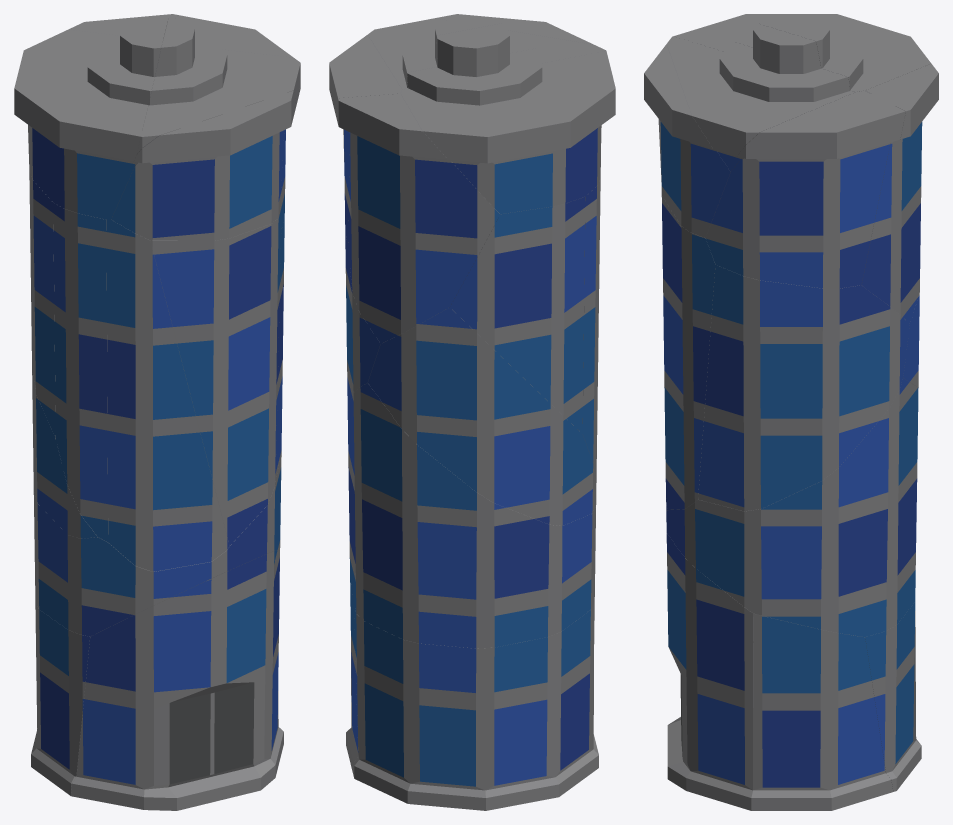
Rendered from HighHouse 2.2 Fractured.fbx.
3 renders of one model, left to right at view 1: azimuth 30°, elevation 25°; view 2: azimuth 150°, elevation 25°; view 3: azimuth 270°, elevation 25°, orthographic.
Parts seen in each view (by area): view 1: HighHouse_2_02_Breaking_cell.001, HighHouse_2_02_Breaking_cell.005, HighHouse_2_02_Breaking_cell.004, HighHouse_2_02_Breaking_cell.011, HighHouse_2_02_Breaking_cell.008, HighHouse_2_02_Breaking_cell.012, HighHouse_2_02_Breaking_cell.003, HighHouse_2_02_Breaking_cell.002, HighHouse_2_02_Breaking_cell.007, HighHouse_2_02_Breaking_cell.009, HighHouse_2_02_Breaking_cell.013, HighHouse_2_02_Breaking_cell.014 (+2 smaller); view 2: HighHouse_2_02_Breaking_cell.003, HighHouse_2_02_Breaking_cell.007, HighHouse_2_02_Breaking_cell.011, HighHouse_2_02_Breaking_cell.013, HighHouse_2_02_Breaking_cell.006, HighHouse_2_02_Breaking_cell.009, HighHouse_2_02_Breaking_cell.002, HighHouse_2_02_Breaking_cell.012, HighHouse_2_02_Breaking_cell.014, HighHouse_2_02_Breaking_cell.010, HighHouse_2_02_Breaking_cell.008, HighHouse_2_02_Breaking_cell; view 3: HighHouse_2_02_Breaking_cell.010, HighHouse_2_02_Breaking_cell.003, HighHouse_2_02_Breaking_cell.014, HighHouse_2_02_Breaking_cell, HighHouse_2_02_Breaking_cell.001, HighHouse_2_02_Breaking_cell.002, HighHouse_2_02_Breaking_cell.004, HighHouse_2_02_Breaking_cell.006, HighHouse_2_02_Breaking_cell.011, HighHouse_2_02_Breaking_cell.008, HighHouse_2_02_Breaking_cell.007, HighHouse_2_02_Breaking_cell.013.
Boxes of the visible parts, left/top/right/bottom form: HighHouse_2_02_Breaking_cell.001: left=71, top=550, right=283, bottom=810; HighHouse_2_02_Breaking_cell.005: left=106, top=219, right=229, bottom=571; HighHouse_2_02_Breaking_cell.004: left=150, top=212, right=281, bottom=545; HighHouse_2_02_Breaking_cell.011: left=14, top=16, right=168, bottom=219; HighHouse_2_02_Breaking_cell.008: left=111, top=90, right=296, bottom=240; HighHouse_2_02_Breaking_cell.012: left=53, top=203, right=108, bottom=542; HighHouse_2_02_Breaking_cell.003: left=33, top=454, right=281, bottom=636; HighHouse_2_02_Breaking_cell.002: left=134, top=17, right=300, bottom=166; HighHouse_2_02_Breaking_cell.007: left=31, top=602, right=90, bottom=795; HighHouse_2_02_Breaking_cell.009: left=29, top=171, right=55, bottom=439; HighHouse_2_02_Breaking_cell.013: left=32, top=369, right=97, bottom=538; HighHouse_2_02_Breaking_cell.014: left=175, top=15, right=300, bottom=228; HighHouse_2_02_Breaking_cell.003: left=347, top=383, right=595, bottom=648; HighHouse_2_02_Breaking_cell.007: left=353, top=602, right=598, bottom=810; HighHouse_2_02_Breaking_cell.011: left=400, top=23, right=615, bottom=214; HighHouse_2_02_Breaking_cell.013: left=368, top=307, right=596, bottom=525; HighHouse_2_02_Breaking_cell.006: left=337, top=93, right=500, bottom=343; HighHouse_2_02_Breaking_cell.009: left=450, top=197, right=585, bottom=433; HighHouse_2_02_Breaking_cell.002: left=368, top=16, right=606, bottom=89; HighHouse_2_02_Breaking_cell.012: left=577, top=179, right=600, bottom=480; HighHouse_2_02_Breaking_cell.014: left=329, top=35, right=402, bottom=244; HighHouse_2_02_Breaking_cell.010: left=345, top=233, right=380, bottom=410; HighHouse_2_02_Breaking_cell.008: left=435, top=14, right=593, bottom=44; HighHouse_2_02_Breaking_cell: left=346, top=577, right=358, bottom=776; HighHouse_2_02_Breaking_cell.010: left=698, top=265, right=909, bottom=511; HighHouse_2_02_Breaking_cell.003: left=666, top=378, right=918, bottom=636; HighHouse_2_02_Breaking_cell.014: left=705, top=90, right=905, bottom=288; HighHouse_2_02_Breaking_cell: left=751, top=613, right=893, bottom=810; HighHouse_2_02_Breaking_cell.001: left=666, top=533, right=753, bottom=810; HighHouse_2_02_Breaking_cell.002: left=667, top=23, right=854, bottom=171; HighHouse_2_02_Breaking_cell.004: left=661, top=196, right=715, bottom=509; HighHouse_2_02_Breaking_cell.006: left=861, top=63, right=938, bottom=323; HighHouse_2_02_Breaking_cell.011: left=674, top=14, right=931, bottom=91; HighHouse_2_02_Breaking_cell.008: left=644, top=44, right=730, bottom=237; HighHouse_2_02_Breaking_cell.007: left=865, top=602, right=921, bottom=791; HighHouse_2_02_Breaking_cell.013: left=903, top=292, right=919, bottom=387.
Bounding box in the file's own units: 450 × 1290 × 473.
